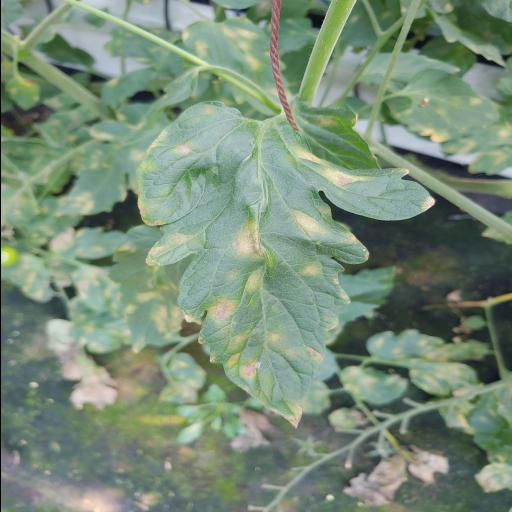Leaf Mold: (132, 102, 438, 430)
